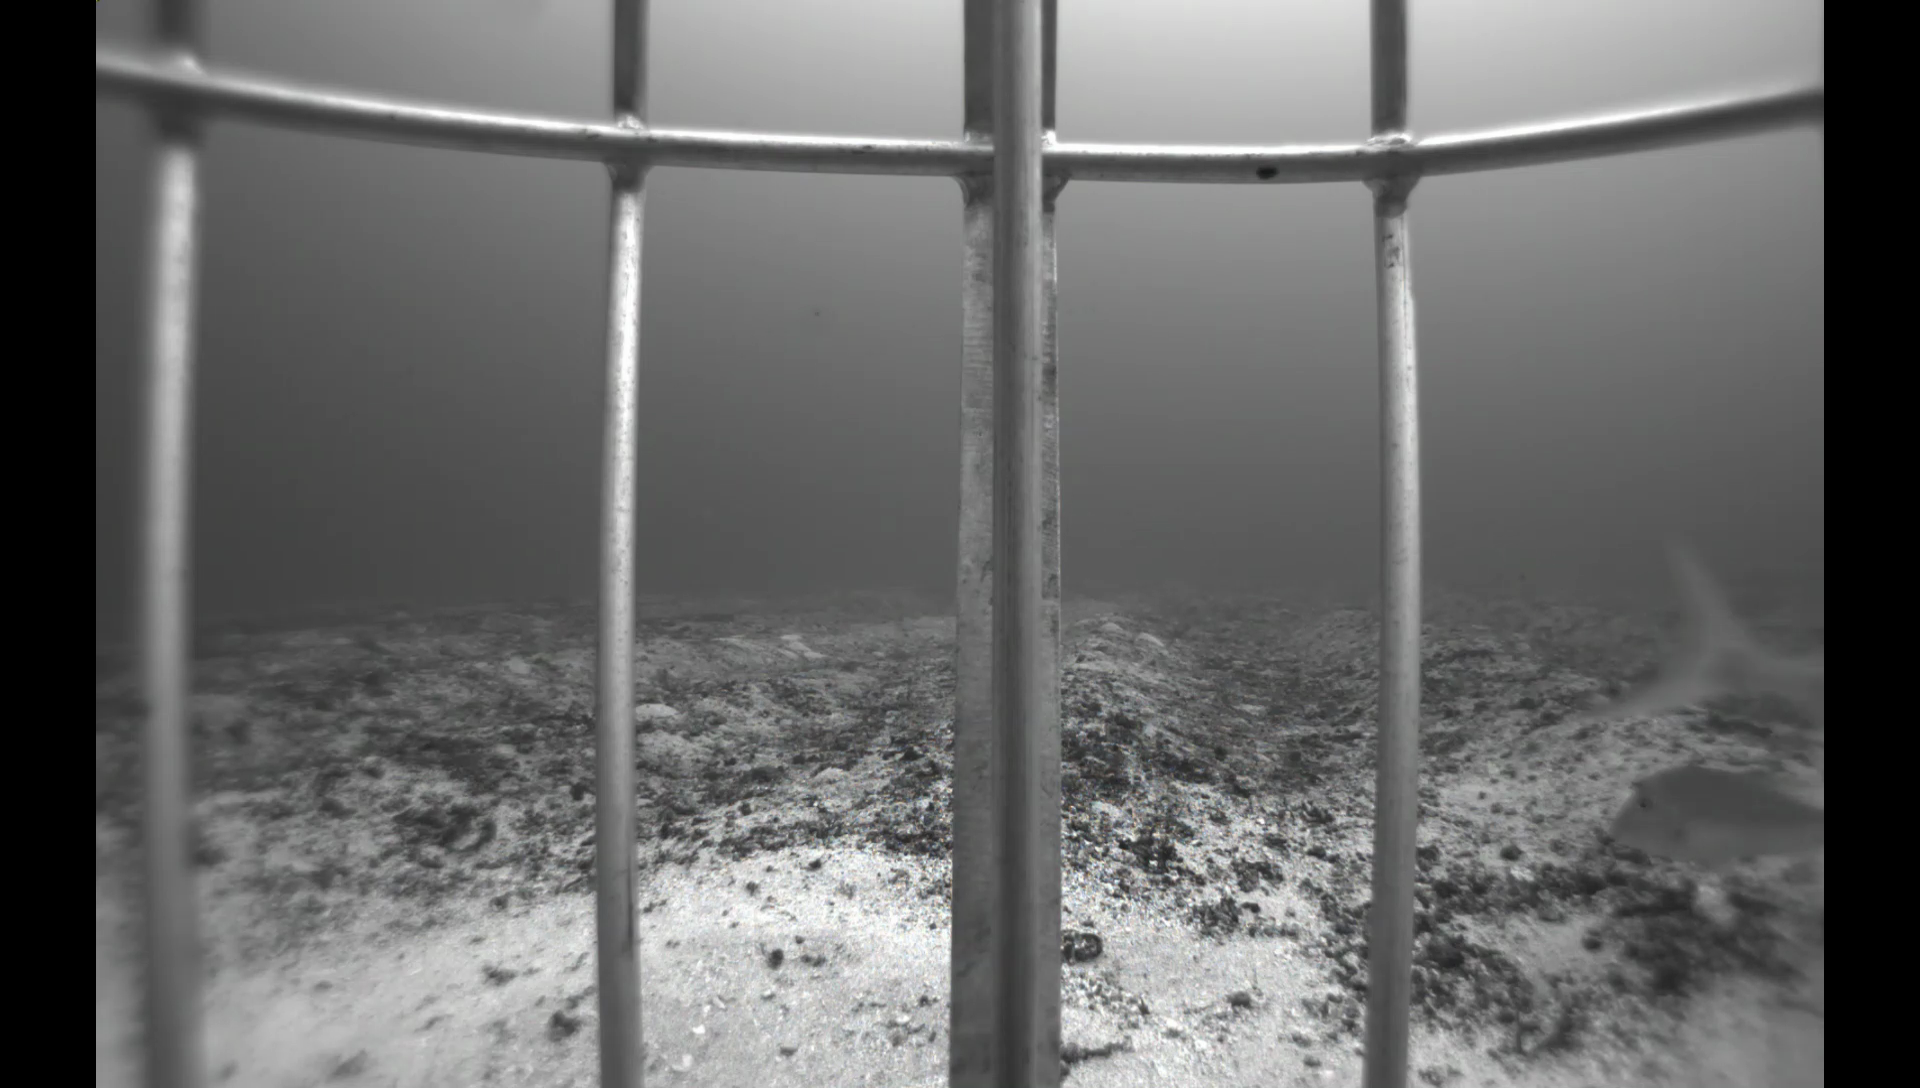CALAMUSPRORIDENS-170210605: (1589, 762, 1825, 869)
SERIOLARIVOLIANA-170113105: (1545, 518, 1822, 775)
